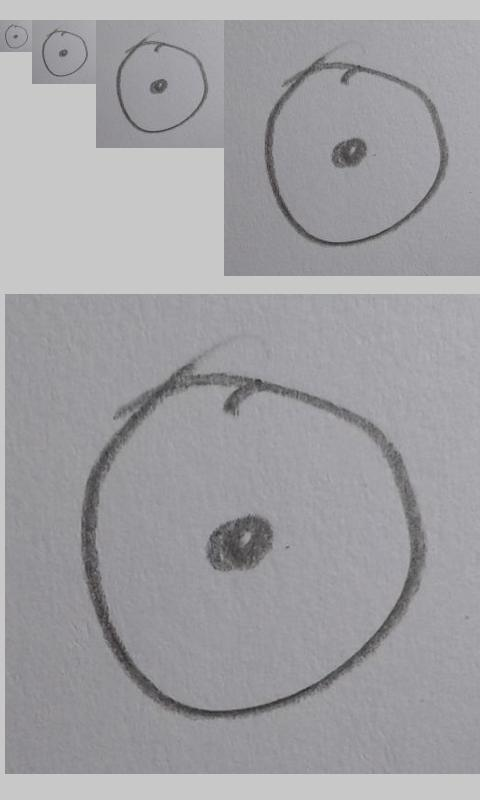radio_button: (77, 357, 427, 723), (262, 56, 449, 249), (114, 39, 210, 134), (41, 29, 89, 78), (4, 23, 29, 50)
